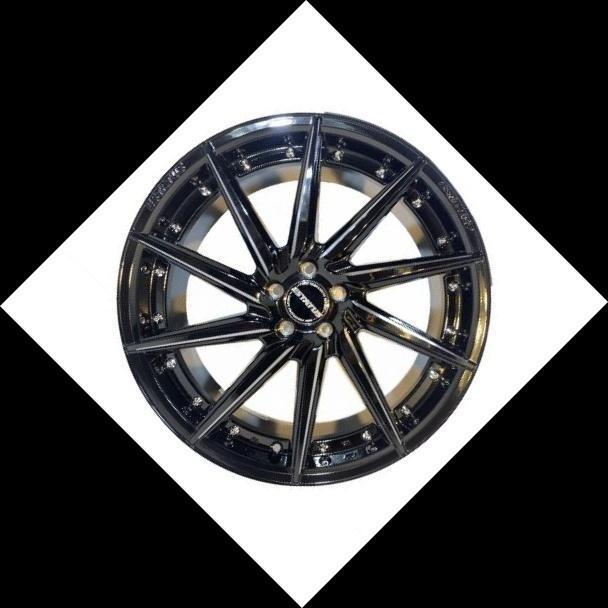hole: (324, 278, 354, 308), (270, 313, 300, 343), (260, 276, 290, 306), (294, 253, 323, 283), (311, 316, 340, 344)
